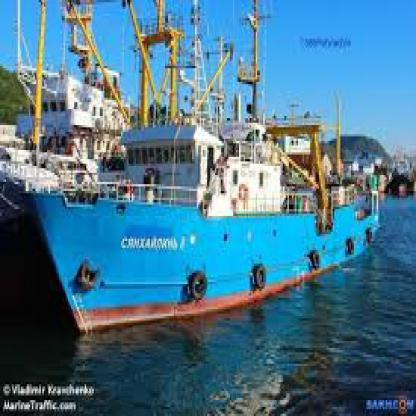Ship: (2, 115, 390, 338)
